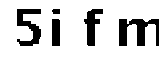5: (11, 5, 45, 52)
f: (79, 4, 106, 52)
i: (48, 4, 71, 52)
m: (117, 16, 160, 52)
